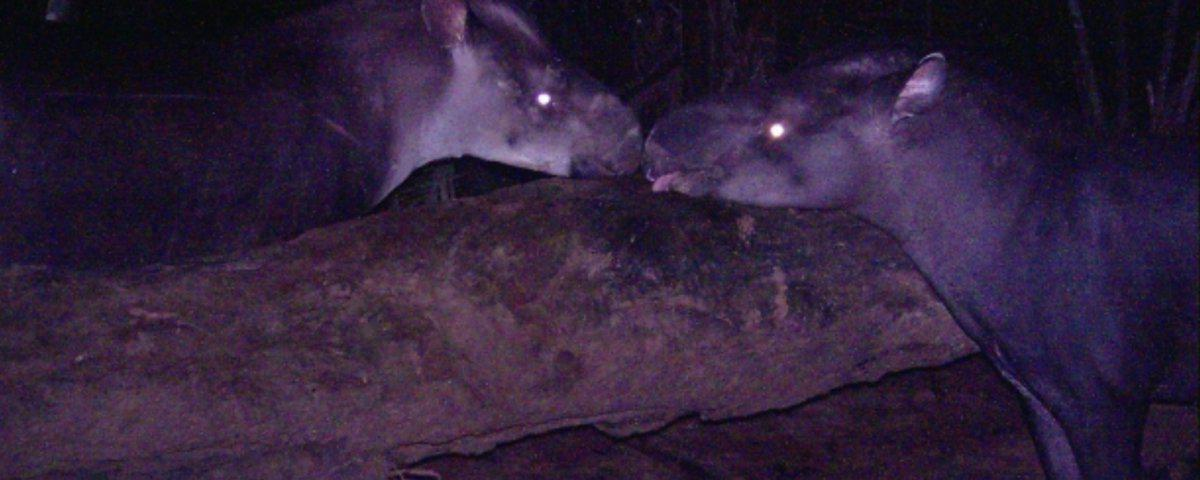Anta: (650, 37, 1189, 454), (22, 6, 645, 251)
